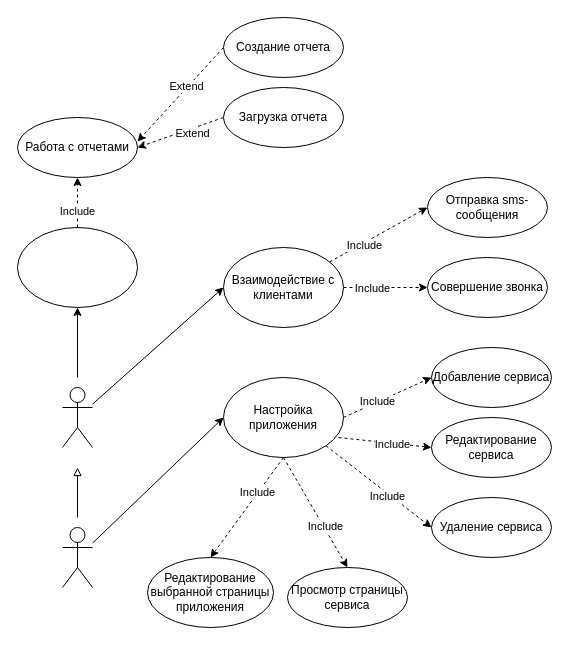
Image size: 569x645. Some labels were removed from this diagram. The centre of each missing label's shape, as x and y in pixels:
Администратор приложения: the point at 77,557
Пользователь: the point at 77,417
Работа со статистикой: the point at 77,267
